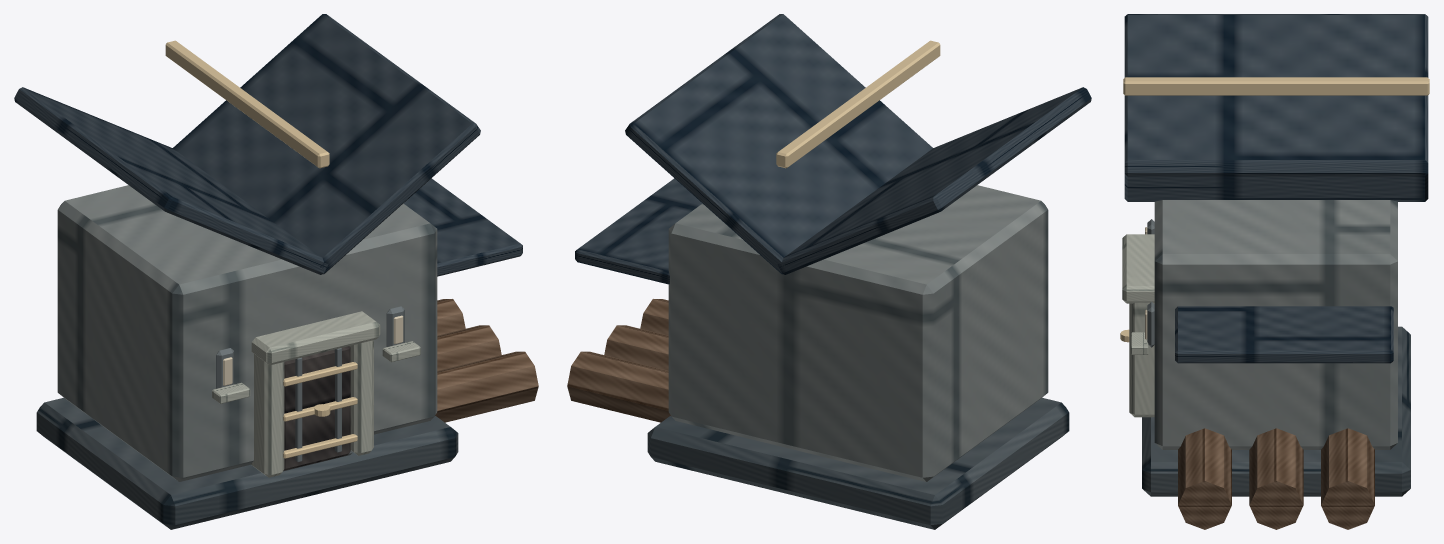
The model's file is Sawmill.glb.
The picture shows the model from 3 angles, left to right: view 1: azimuth 30°, elevation 25°; view 2: azimuth 150°, elevation 25°; view 3: azimuth 270°, elevation 25°; orthographic projection.
Visible parts, largest first — view 1: Sawmill body, Sawmill roof/right, Sawmill raised sill, Sawmill roof/left, Mill canopy, Seasoned log, Two oak gate leaves, Lintel crown, Sawmill roof/ridge, Gate pier, Gate pier.001, Seasoned log.001 (+4 smaller); view 2: Sawmill body, Sawmill roof/right, Sawmill raised sill, Sawmill roof/left, Mill canopy, Seasoned log.002, Sawmill roof/ridge, Seasoned log.001, Seasoned log; view 3: Sawmill body, Sawmill roof/left, Mill canopy, Sawmill roof/right, Sawmill raised sill, Sawmill roof/ridge, Seasoned log.001, Seasoned log.002, Seasoned log, Lintel crown, Gate pier.001, Window sill.001.
Part boxes in pixels (x1,y1,x2,y2): Sawmill body: (57, 185, 437, 481); Sawmill roof/right: (173, 14, 480, 274); Sawmill raised sill: (36, 397, 458, 529); Sawmill roof/left: (14, 87, 328, 274); Mill canopy: (403, 178, 522, 276); Seasoned log: (435, 351, 538, 422); Two oak gate leaves: (283, 346, 350, 470); Lintel crown: (251, 311, 380, 365); Sawmill roof/ridge: (165, 40, 329, 168); Gate pier: (251, 354, 284, 477); Gate pier.001: (349, 340, 373, 455); Seasoned log.001: (437, 325, 501, 370); Sawmill body: (668, 185, 1048, 481); Sawmill roof/right: (625, 14, 932, 274); Sawmill raised sill: (647, 397, 1069, 529); Sawmill roof/left: (777, 87, 1091, 274); Mill canopy: (575, 178, 702, 284); Seasoned log.002: (567, 351, 670, 422); Sawmill roof/ridge: (776, 40, 940, 168); Seasoned log.001: (604, 325, 668, 370); Seasoned log: (640, 299, 668, 335); Sawmill body: (1154, 200, 1397, 449); Sawmill roof/left: (1124, 14, 1428, 162); Mill canopy: (1175, 306, 1393, 363); Sawmill roof/right: (1124, 160, 1428, 201); Sawmill raised sill: (1142, 326, 1410, 496); Sawmill roof/ridge: (1123, 77, 1429, 95); Seasoned log.001: (1249, 428, 1303, 529); Seasoned log.002: (1321, 428, 1374, 529); Seasoned log: (1178, 428, 1231, 529); Lintel crown: (1122, 234, 1154, 303); Gate pier.001: (1129, 302, 1154, 417); Window sill.001: (1131, 332, 1148, 354).
Size of the model in its own units: 5.76 by 4.85 by 3.89.
10 materials, 6 textured.
